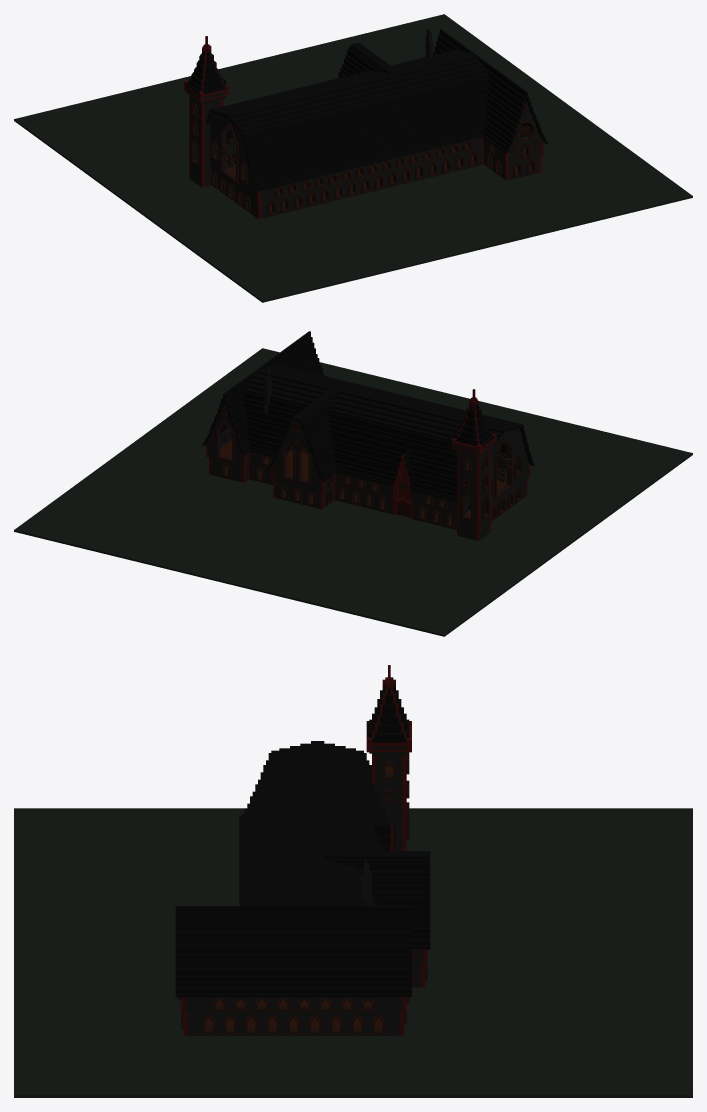
File: Manor.obj
The picture shows the model from 3 angles, top to bottom: view 1: azimuth 30°, elevation 25°; view 2: azimuth 150°, elevation 25°; view 3: azimuth 270°, elevation 25°; orthographic projection. The views are drawn at different scales.
Size of the model in its own units: 25.6 by 8.3 by 25.6.
1 material, 1 textured.
